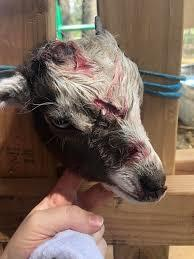cut: (55, 51, 160, 181)
